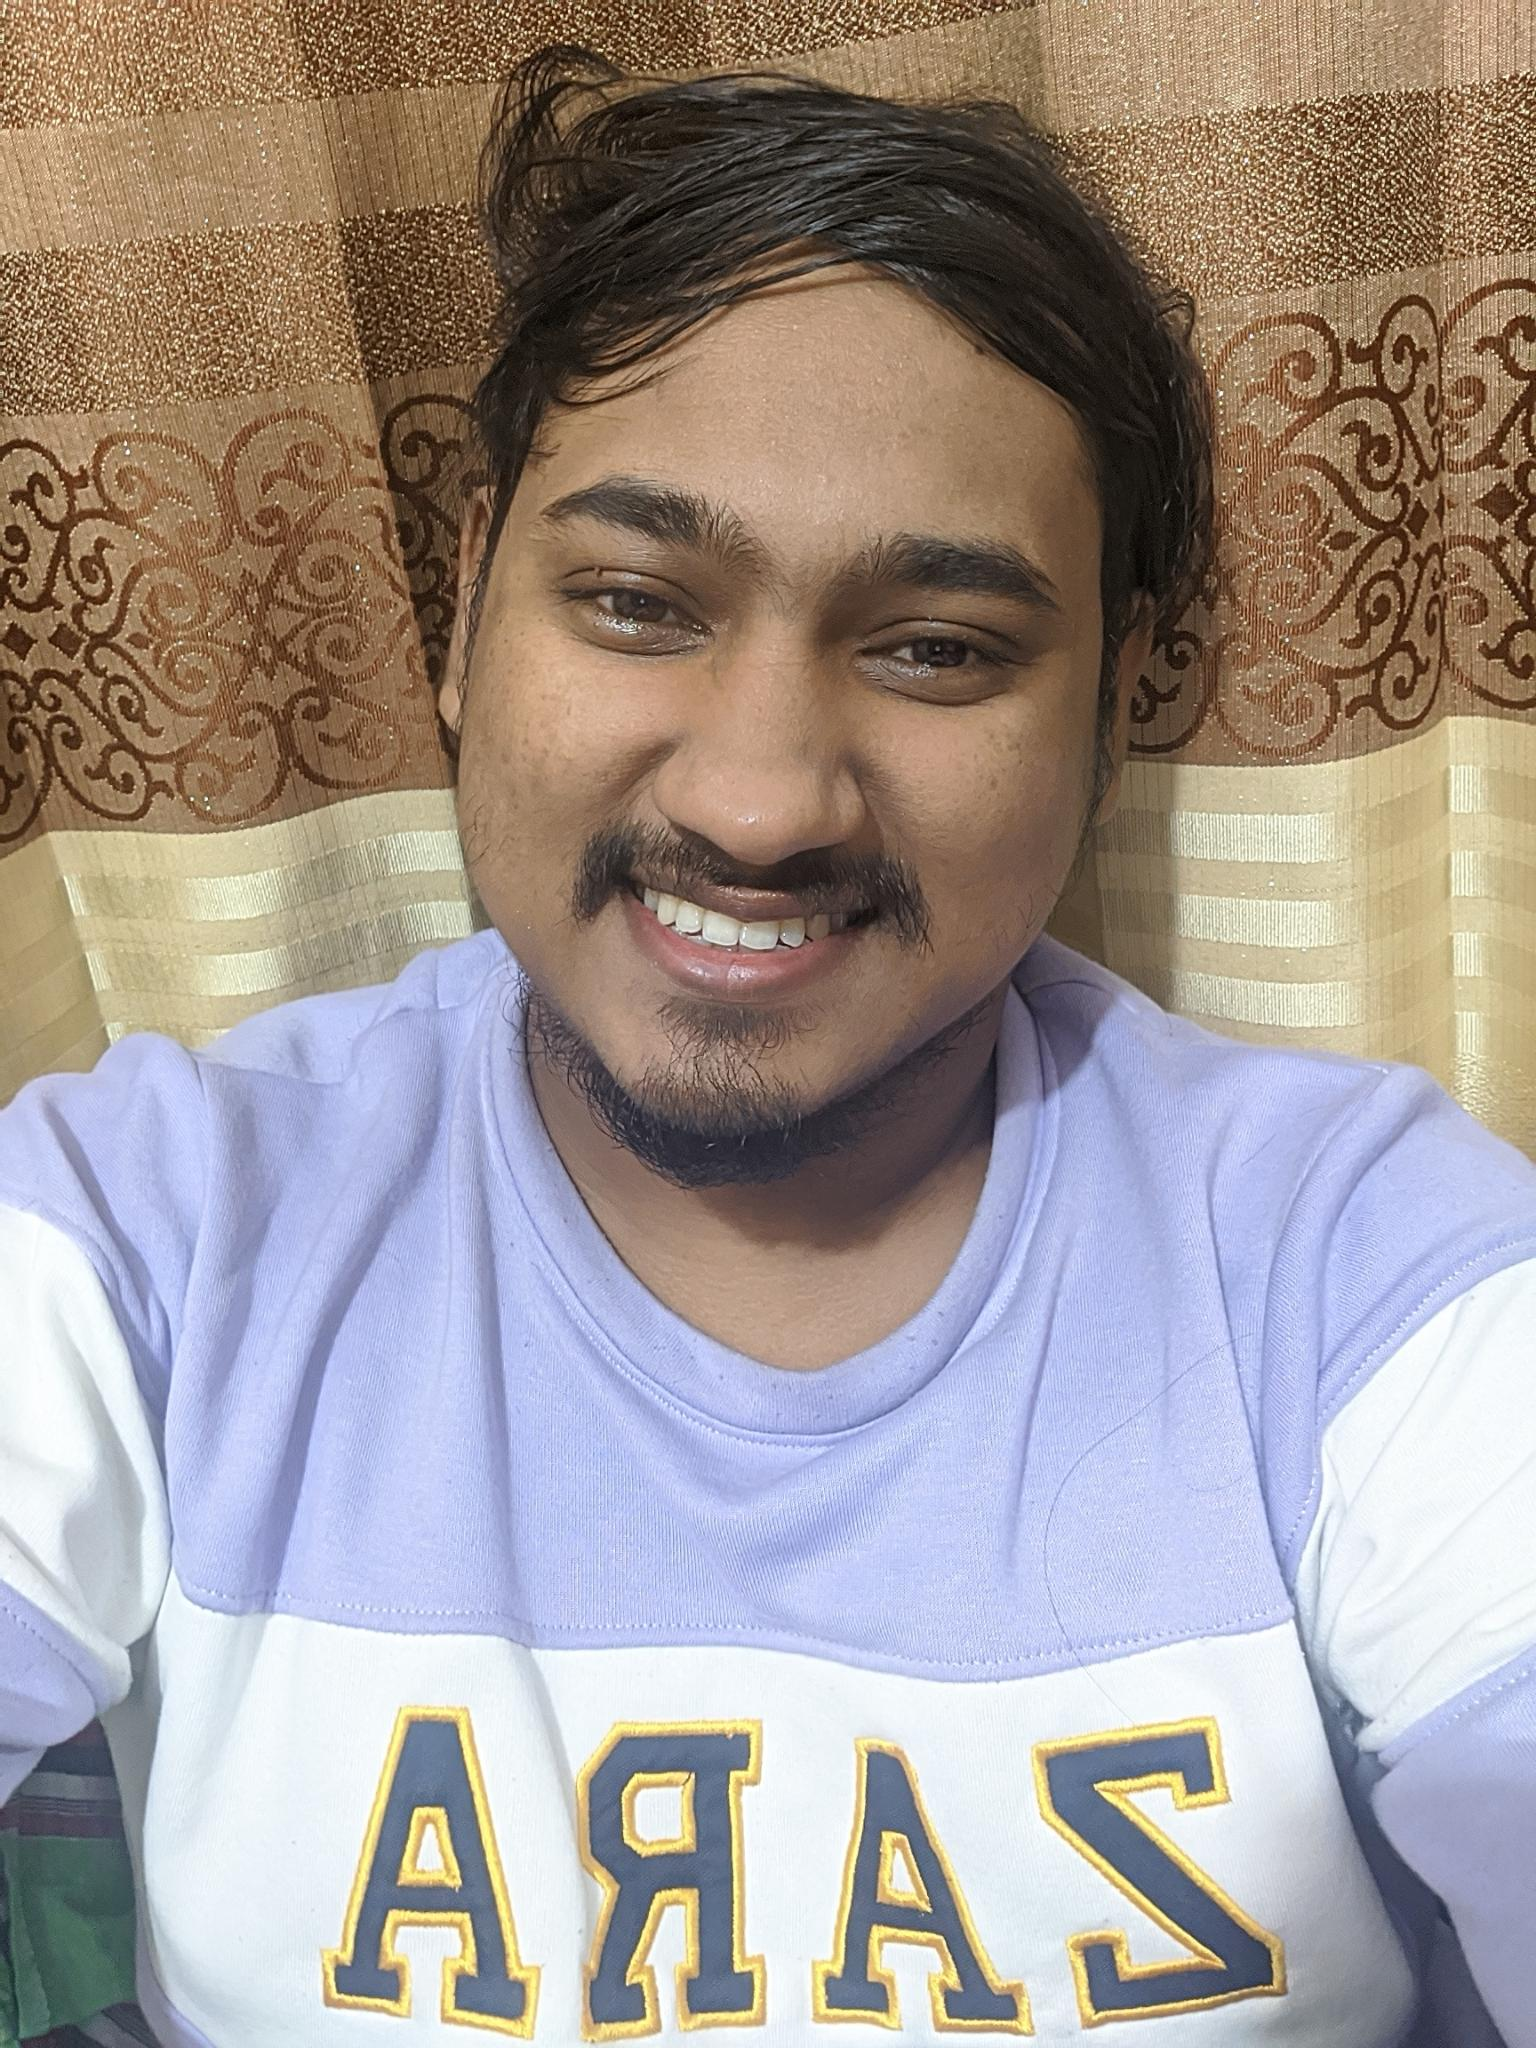Happy: (478, 403, 1091, 1166)
